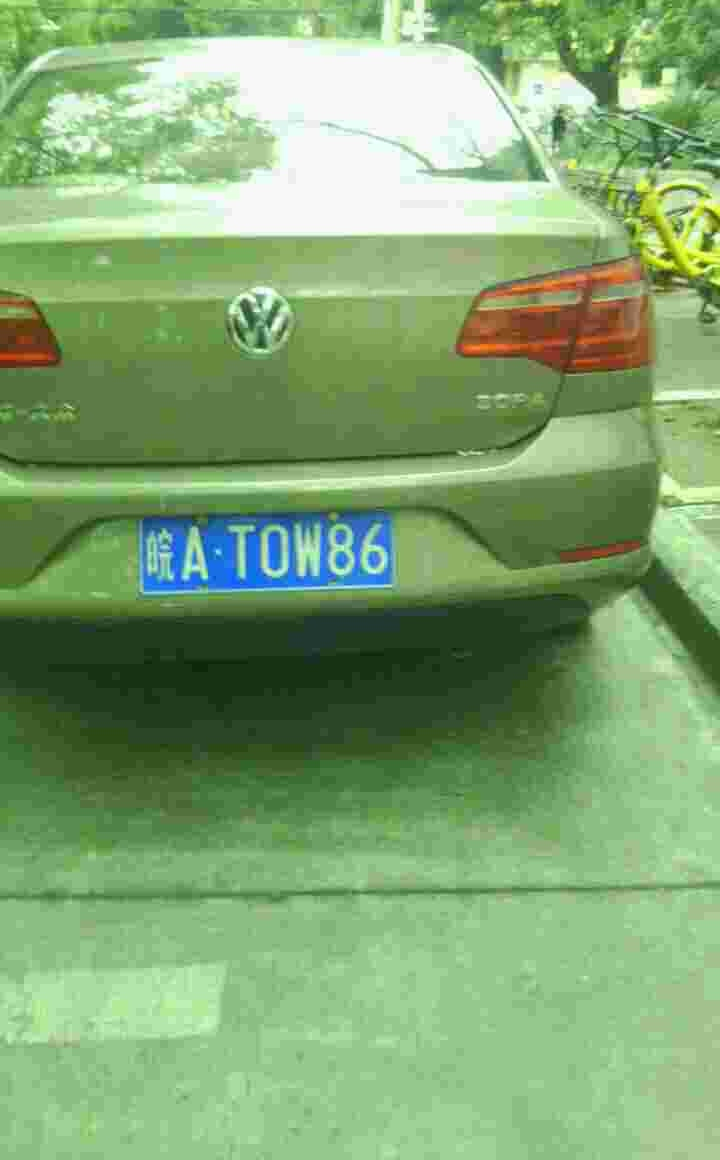plate: (142, 503, 401, 599)
